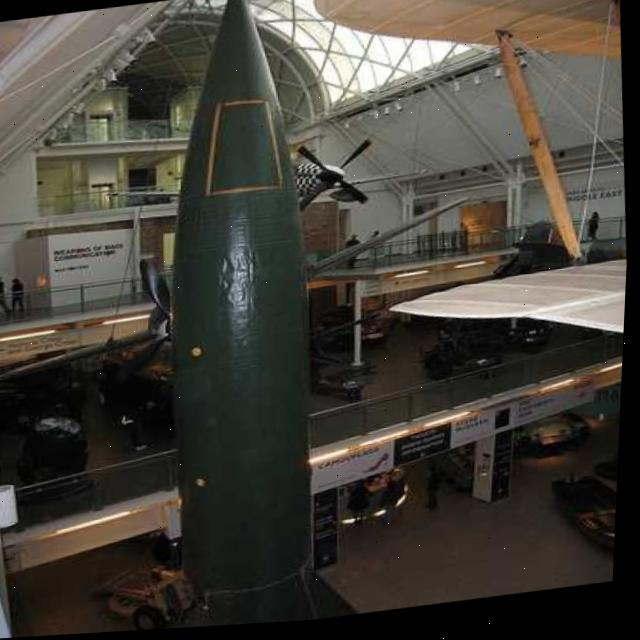missile: (126, 0, 359, 606)
